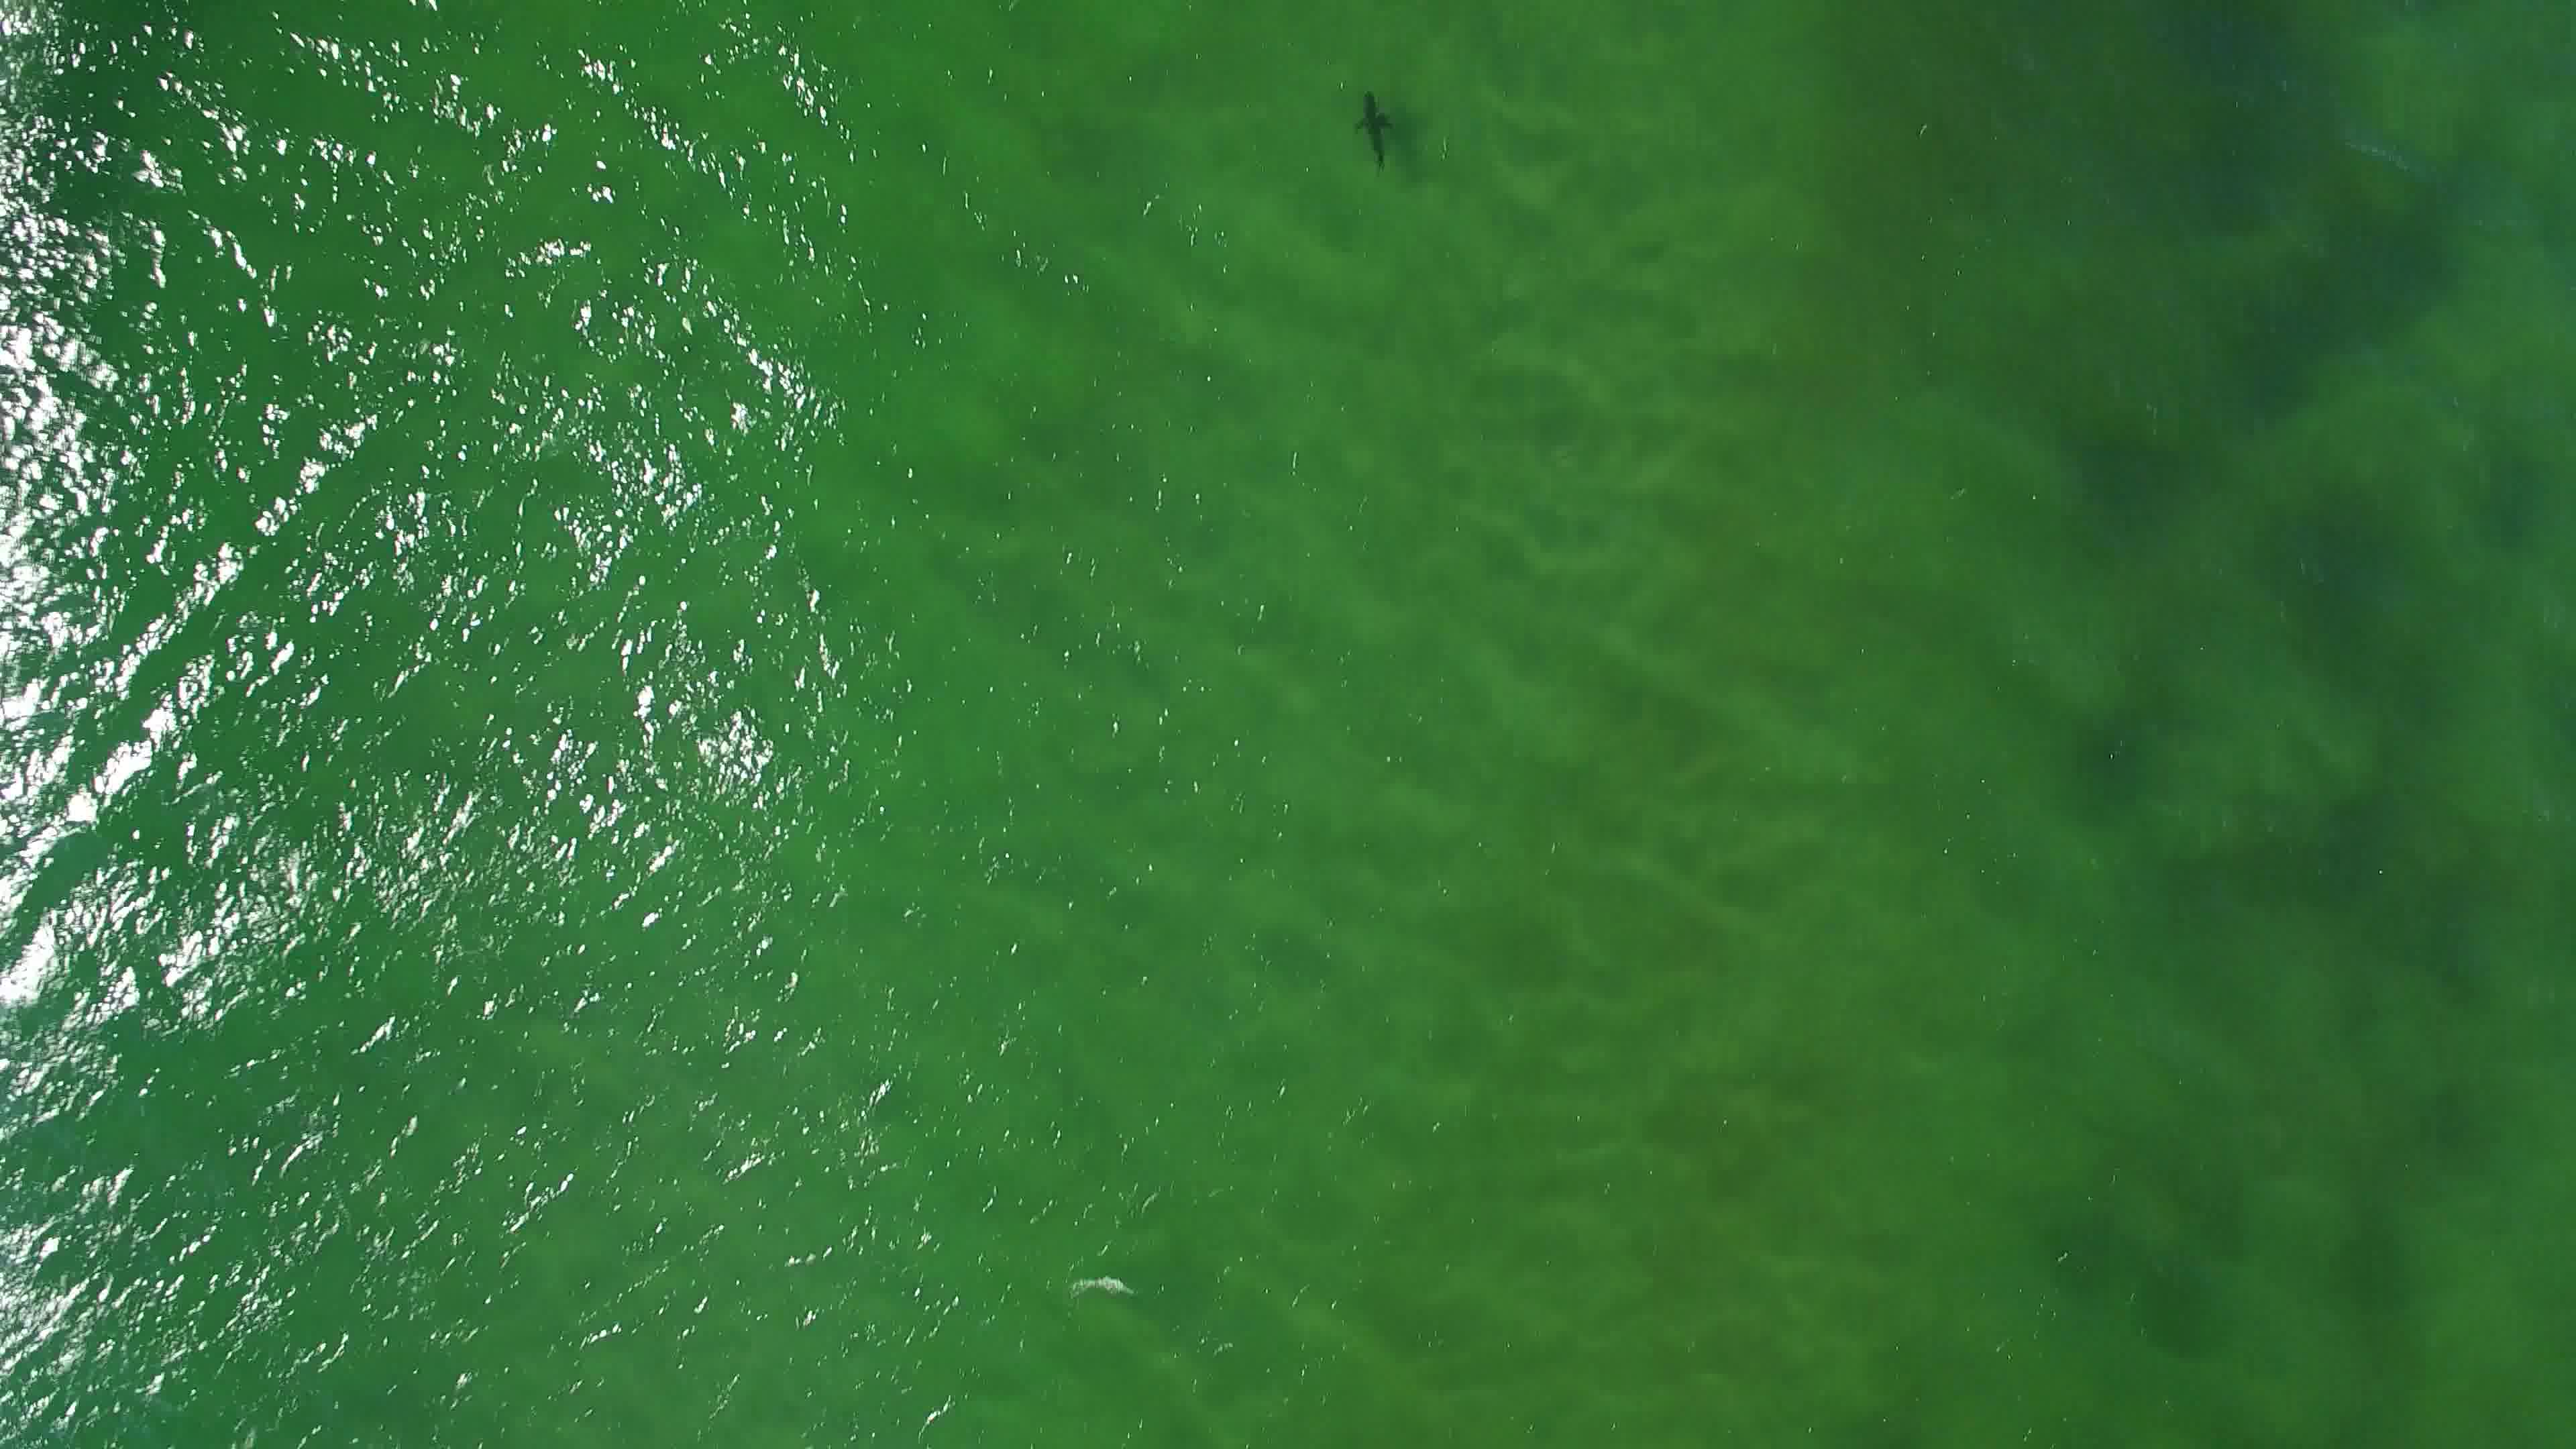shark: (1346, 83, 1399, 177)
